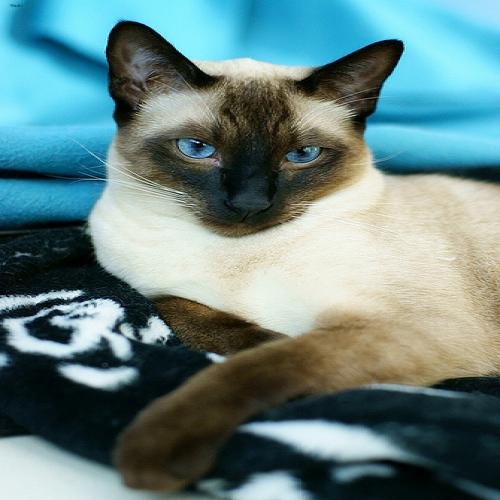siamese: (92, 11, 420, 250)
